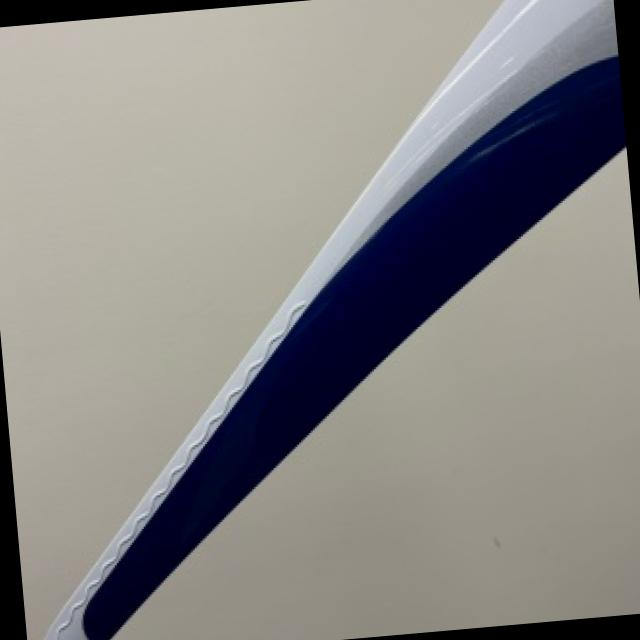healthy: (114, 152, 640, 640)
